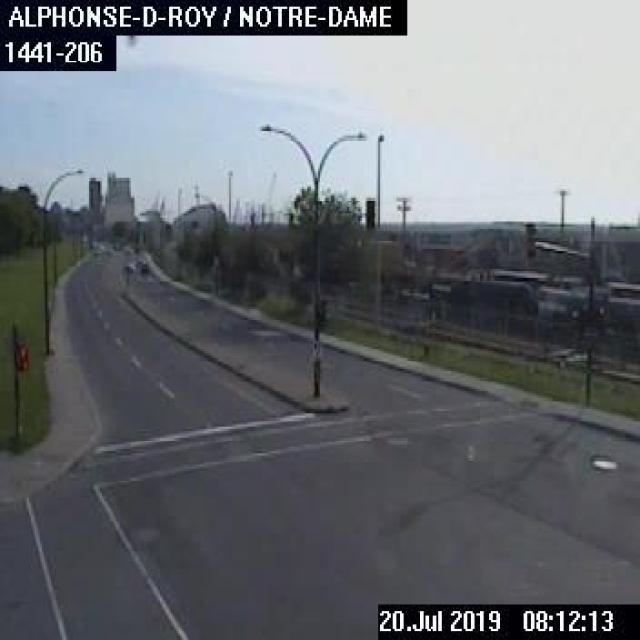vehicle: (137, 258, 151, 276)
